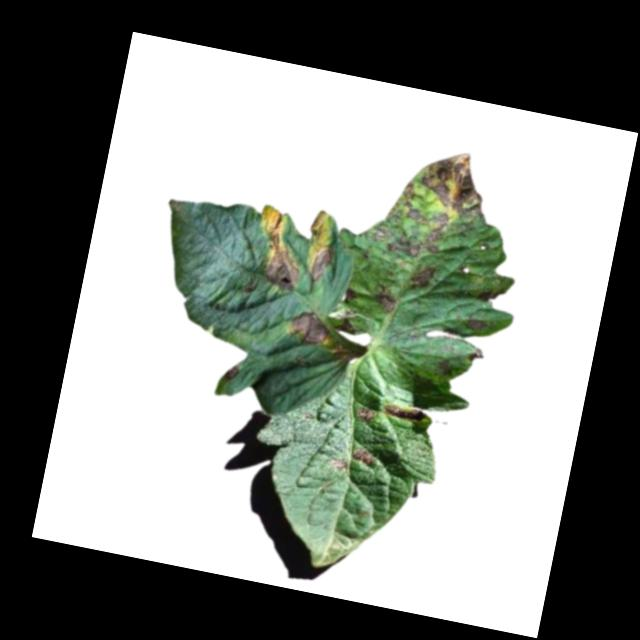Early_blight: (416, 145, 494, 219), (247, 208, 312, 296), (287, 310, 337, 349), (304, 244, 337, 287), (423, 209, 451, 256), (387, 228, 425, 260), (406, 262, 440, 297), (398, 183, 428, 222), (382, 402, 426, 427), (371, 285, 402, 314), (308, 208, 333, 242), (462, 313, 495, 334), (350, 447, 378, 469), (371, 221, 392, 247), (351, 404, 374, 426), (329, 457, 349, 473)
